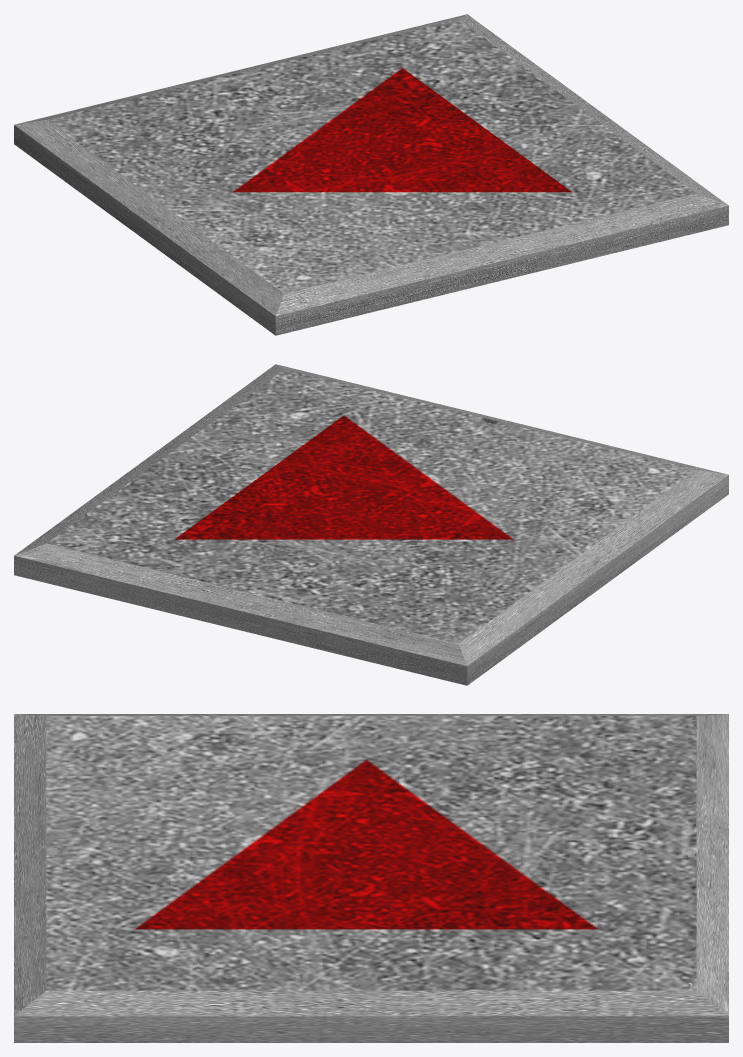
File: piso triangulo.fbx
3 views of the same model, one above another, from view 1: azimuth 30°, elevation 25°; view 2: azimuth 150°, elevation 25°; view 3: azimuth 270°, elevation 25° (orthographic). The views are drawn at different scales.
Parts seen in each view (by area): view 1: Cubo; view 2: Cubo; view 3: Cubo.
Part boxes in pixels (x1=…): Cubo: x1=14, y1=14, x2=728, y2=335; Cubo: x1=14, y1=364, x2=728, y2=685; Cubo: x1=14, y1=714, x2=728, y2=1042.
Bounding box in the file's own units: 200 × 11.86 × 200.
1 material, 1 textured.
